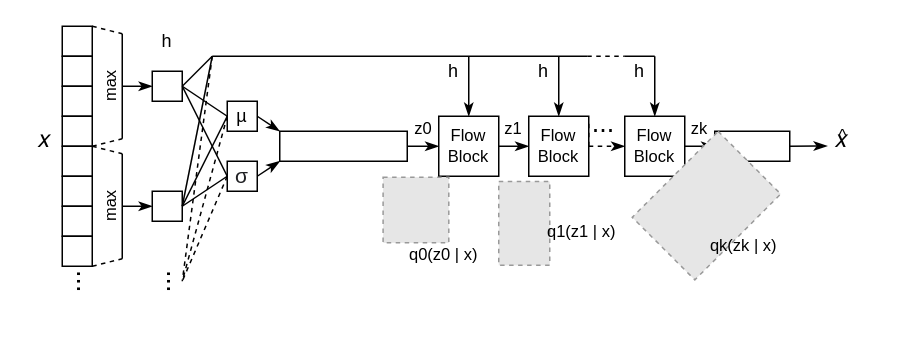
The diagram is 897 pixels wide and 353 high, and some of its shapes have lost their labels. Grey dashed boxes stand in for pictures. The shapes that lost their labels are listed below. From the top down, each one's centre as x and y in pixels, then its label:
At pixel 342 145: "reparameterize".
At pixel 751 145: "decoder".
